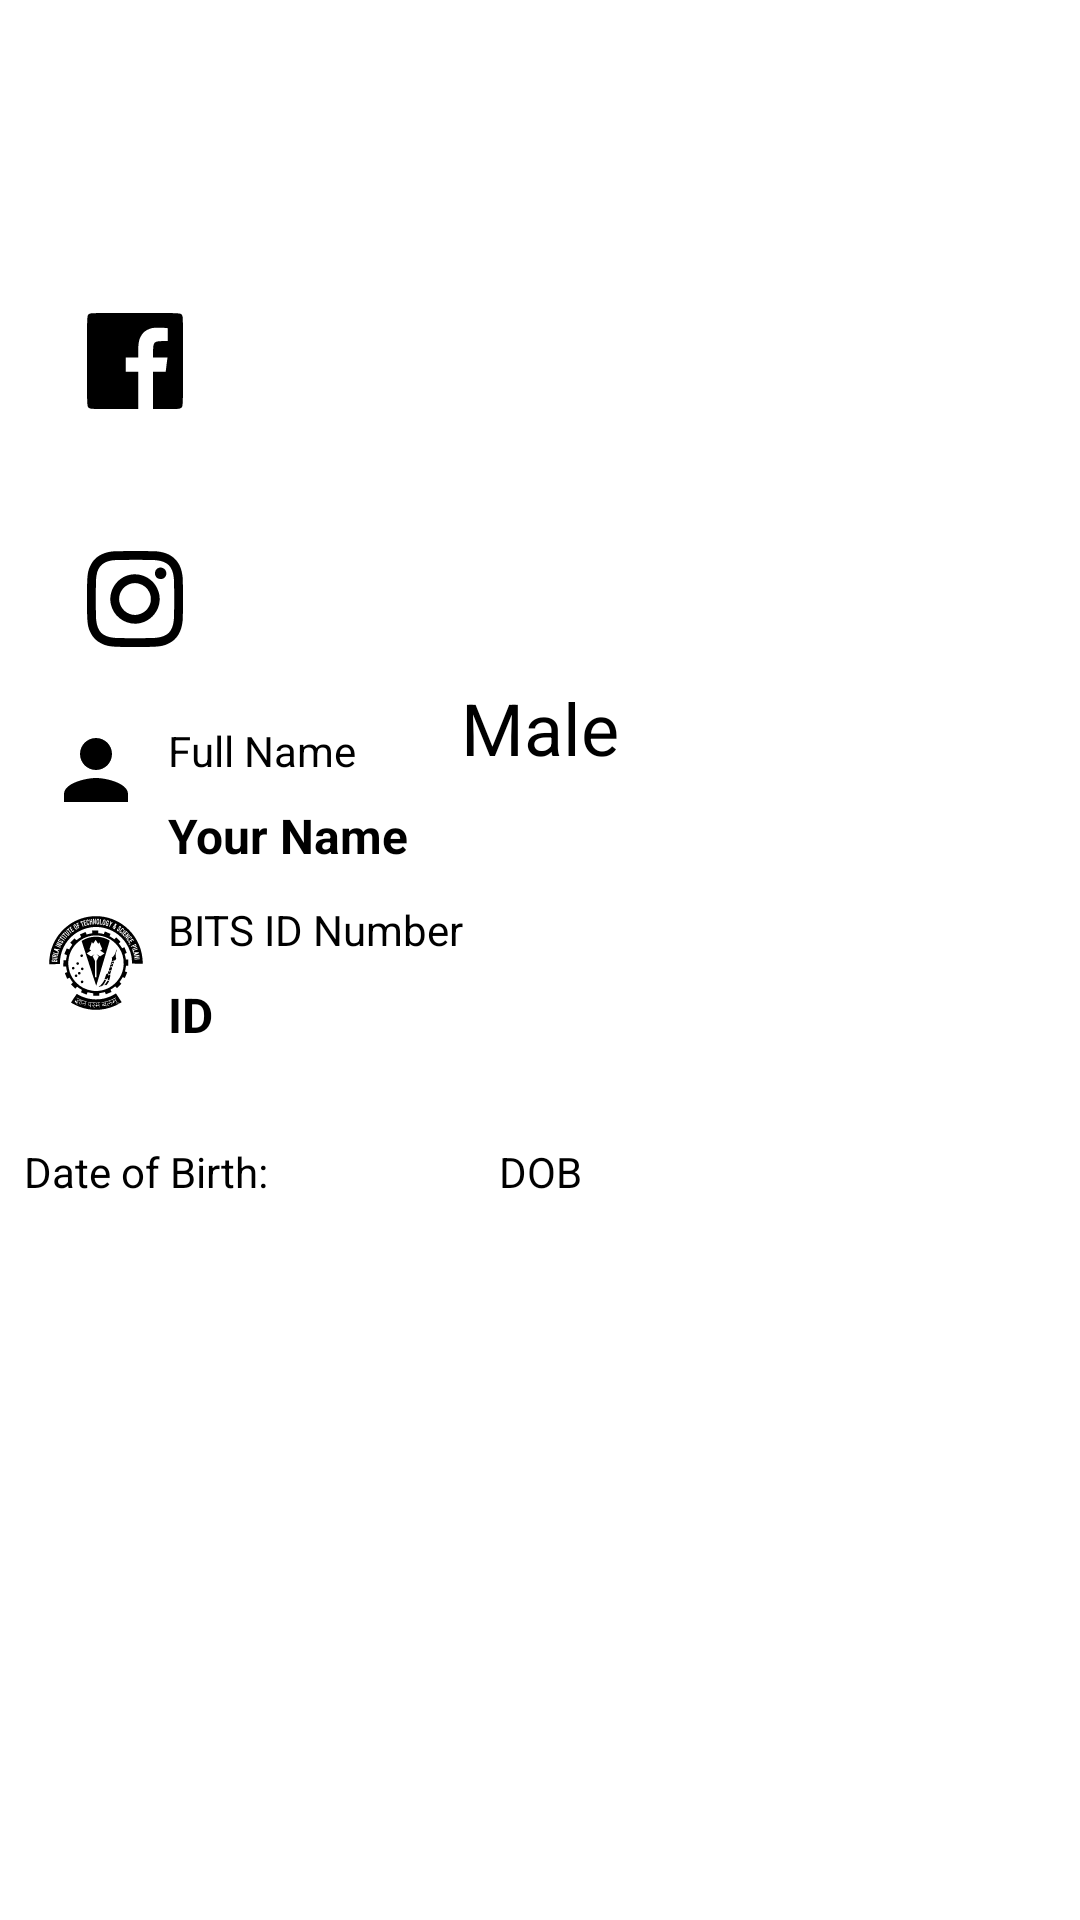

Screen size 1080x1920. Icon name, then its center in pixels as (x,y):
person: (96,770)
